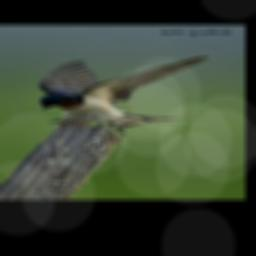Swallow: (38, 54, 229, 134)
